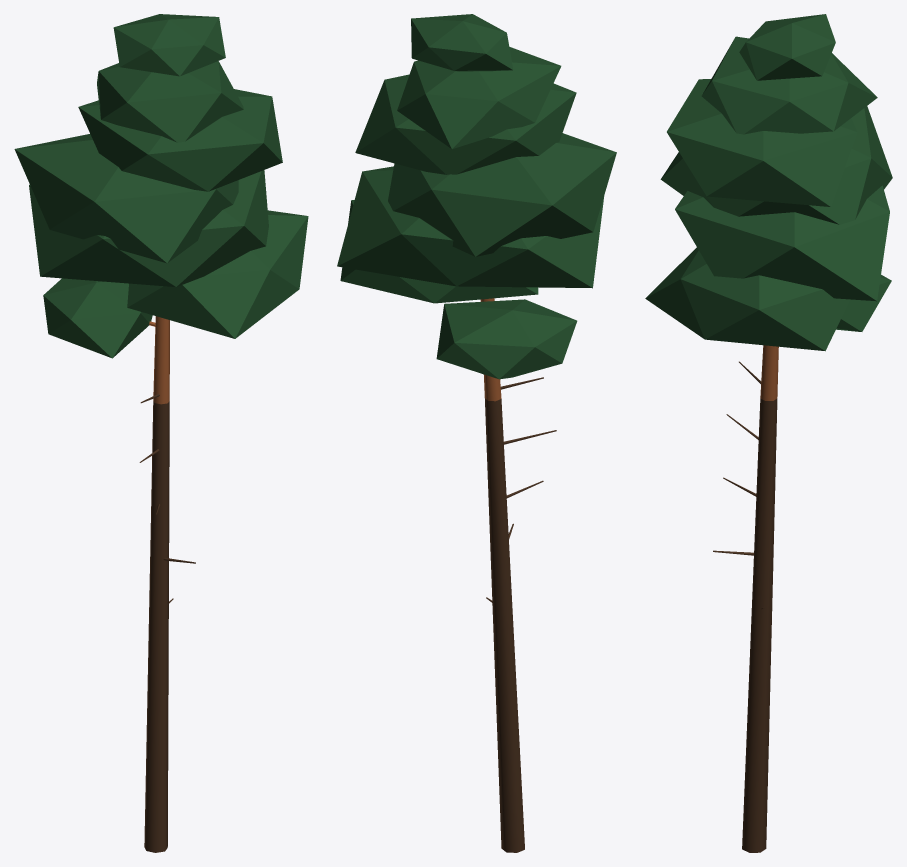
The model's file is tree-pine-2.glb.
3 renders of one model, left to right at view 1: azimuth 30°, elevation 25°; view 2: azimuth 150°, elevation 25°; view 3: azimuth 270°, elevation 25°, orthographic. The views are drawn at different scales.
Visible parts, largest first — view 1: 02_paint0, 00_#4a3424, 01_#9a5a34; view 2: 02_paint0, 00_#4a3424; view 3: 02_paint0, 00_#4a3424, 01_#9a5a34.
Boxes of the visible parts, <box> form: 02_paint0: <box>14,14,308,358</box>; 00_#4a3424: <box>139,393,195,852</box>; 01_#9a5a34: <box>149,316,169,404</box>; 02_paint0: <box>337,14,616,379</box>; 00_#4a3424: <box>485,377,556,852</box>; 02_paint0: <box>645,14,892,351</box>; 00_#4a3424: <box>713,361,777,852</box>; 01_#9a5a34: <box>760,345,778,400</box>.
Bounding box in the file's own units: 8.21 × 25.23 × 6.73.
